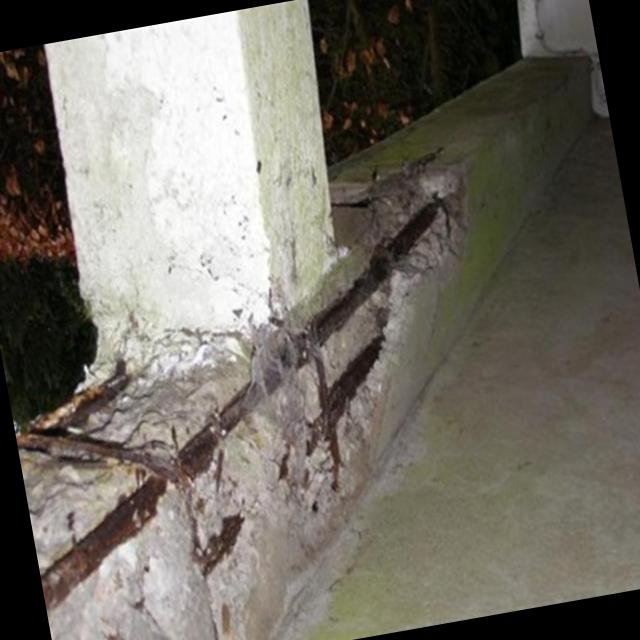spalling: (16, 156, 467, 640)
